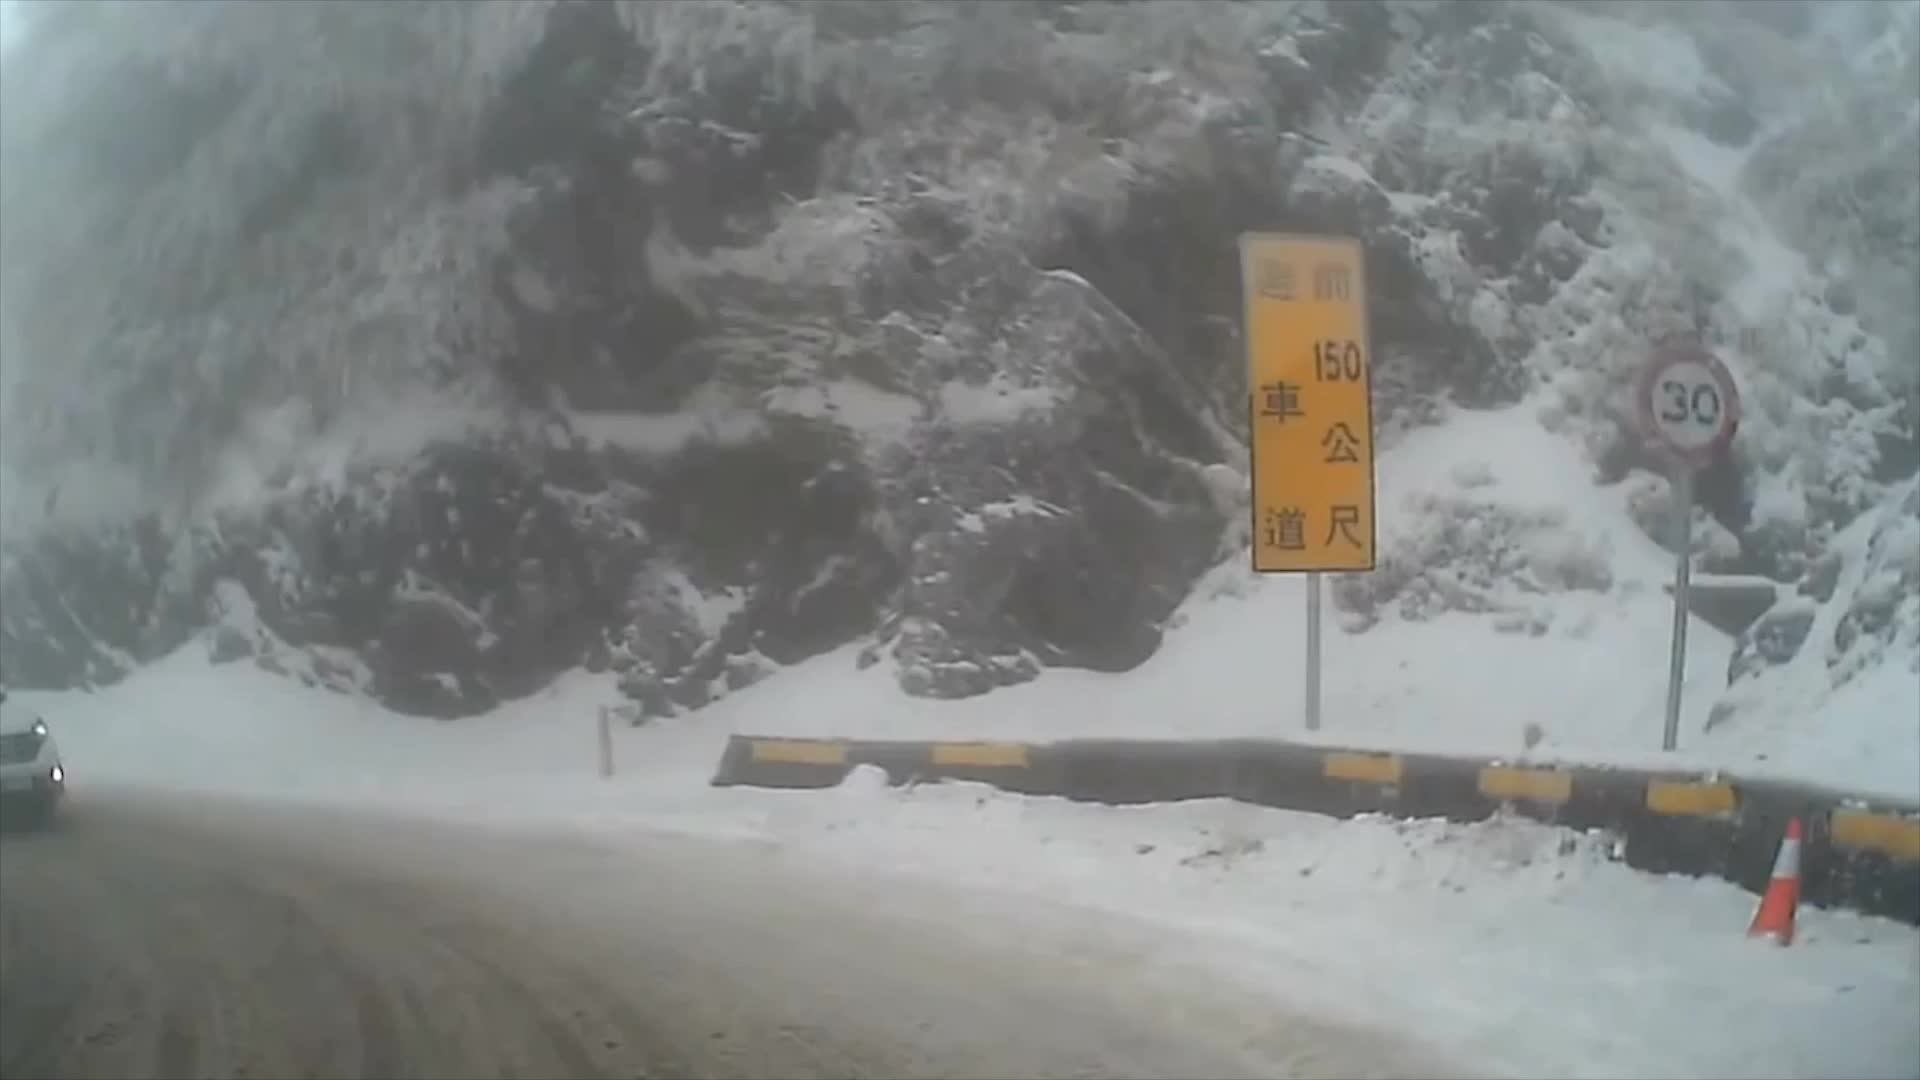vehicle: (0, 684, 65, 832)
